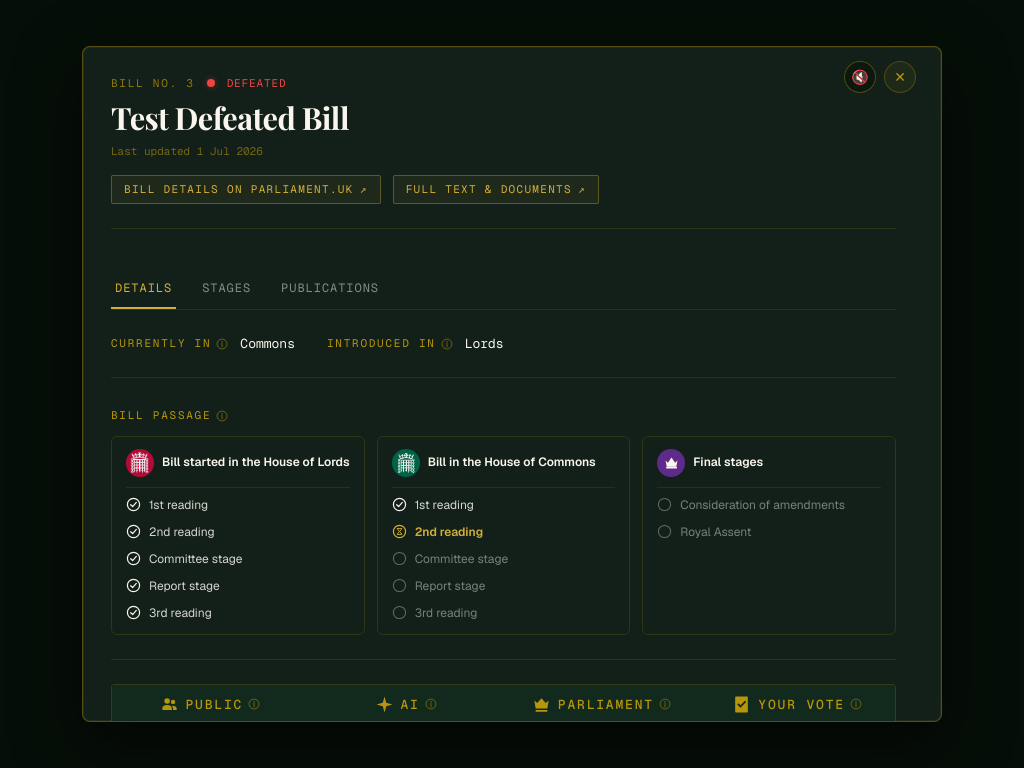
Test: BillDetailModal › closes voting for a defeated bill, with its own detail showing where it stopped
What coordinates should you click on to do the following:
click the tab "Stages"
I would click on:
 (227, 290)
Its box is [198,271,255,309].
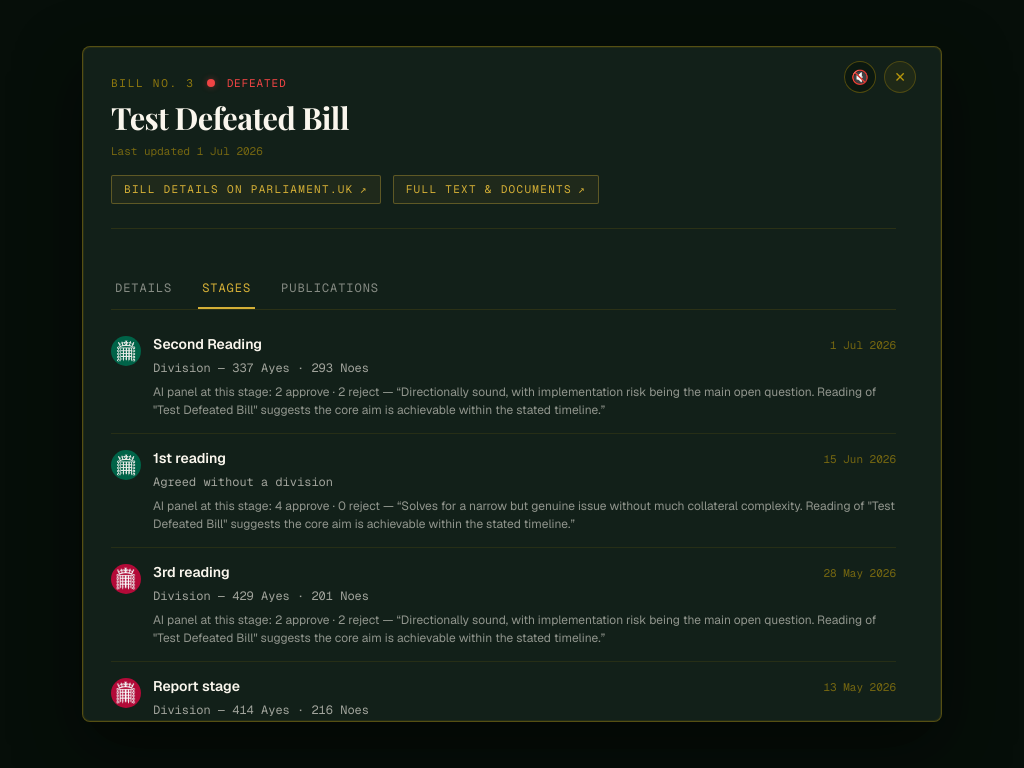
Expected: the text "Second Reading" is shown, [153,334,262,355]
